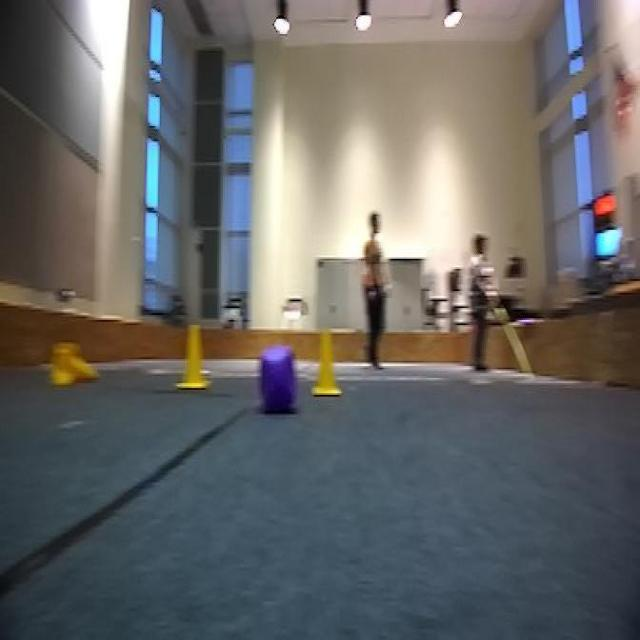frc_cone: (172, 322, 214, 389), (50, 337, 96, 390), (311, 331, 341, 398)
frc_cube: (259, 346, 298, 410)
